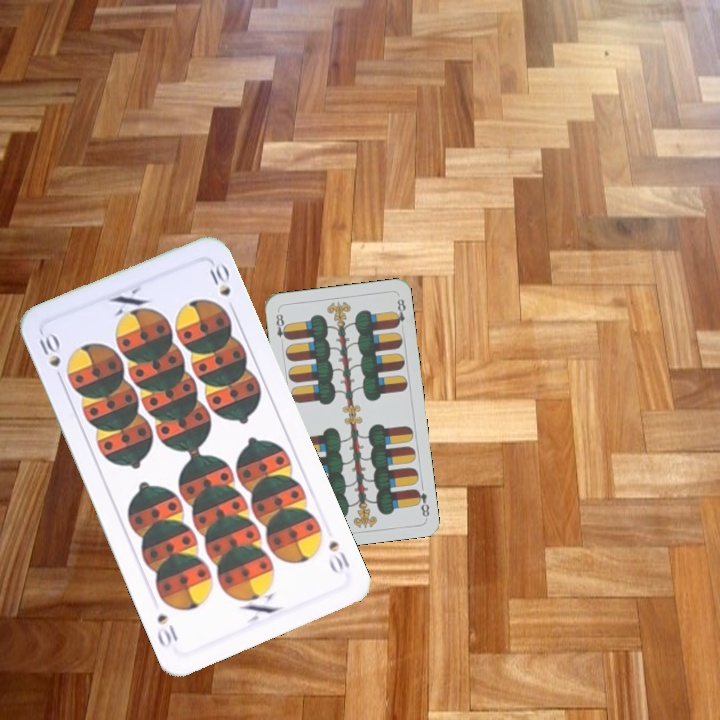E8: (272, 307, 291, 348), (411, 485, 432, 520)
S10: (34, 329, 63, 370), (324, 536, 352, 578)
